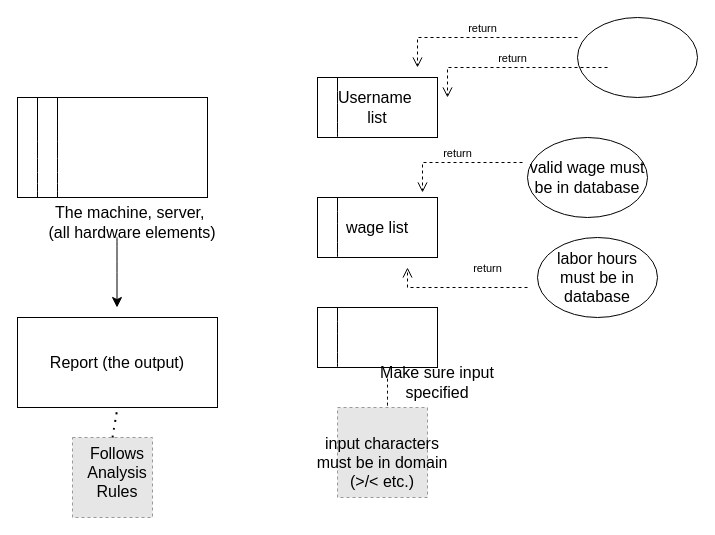
This 715x535 diagram has some shape labels left out. Grey dashed boxes stand in for pictures. The centre of each missing label's shape, as x and y in pixels:
Clock in/out System: the point at 112,147
username must be in database: the point at 637,57
white-listed values: the point at 377,337
